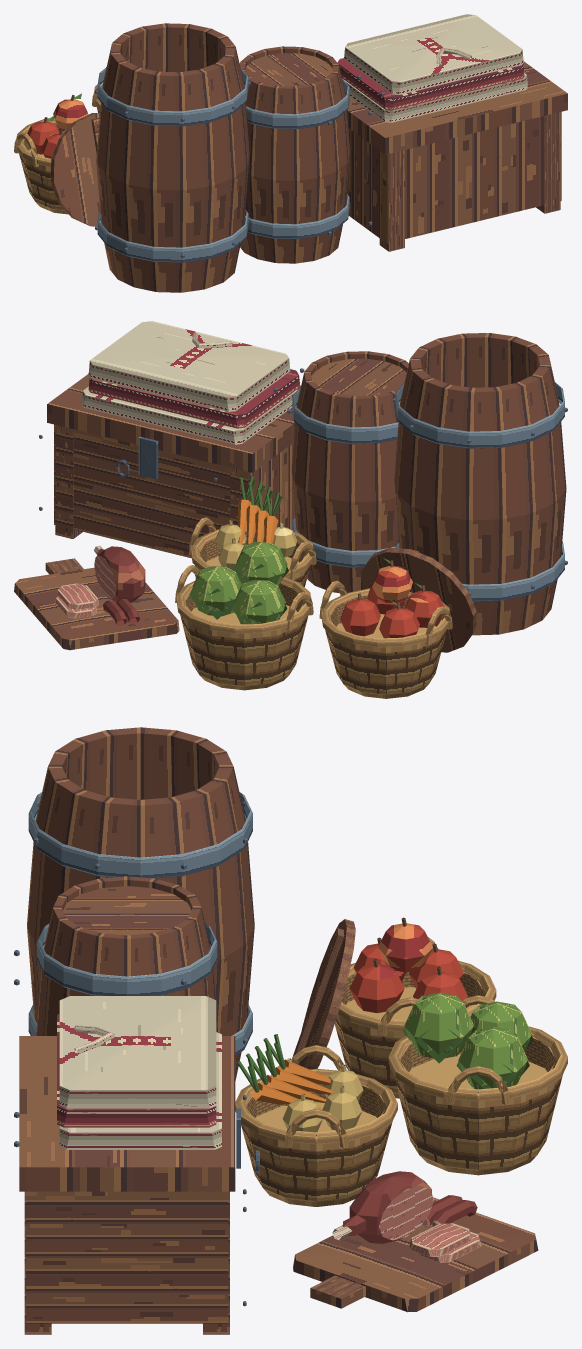
The model's file is starter_stockpile.glb.
3 renders of one model, top to bottom at view 1: azimuth 30°, elevation 25°; view 2: azimuth 150°, elevation 25°; view 3: azimuth 270°, elevation 25°, orthographic. The views are drawn at different scales.
Parts seen in each view (by area): view 1: StarterStockpile; view 2: StarterStockpile; view 3: StarterStockpile.
Boxes of the visible parts, box(x1,y1,x2,y2) form: StarterStockpile: box(14, 14, 567, 292); StarterStockpile: box(14, 321, 567, 698); StarterStockpile: box(14, 727, 567, 1334).
Size of the model in its own units: 0.95 by 0.4622 by 0.7294.
1 material, 1 textured.
